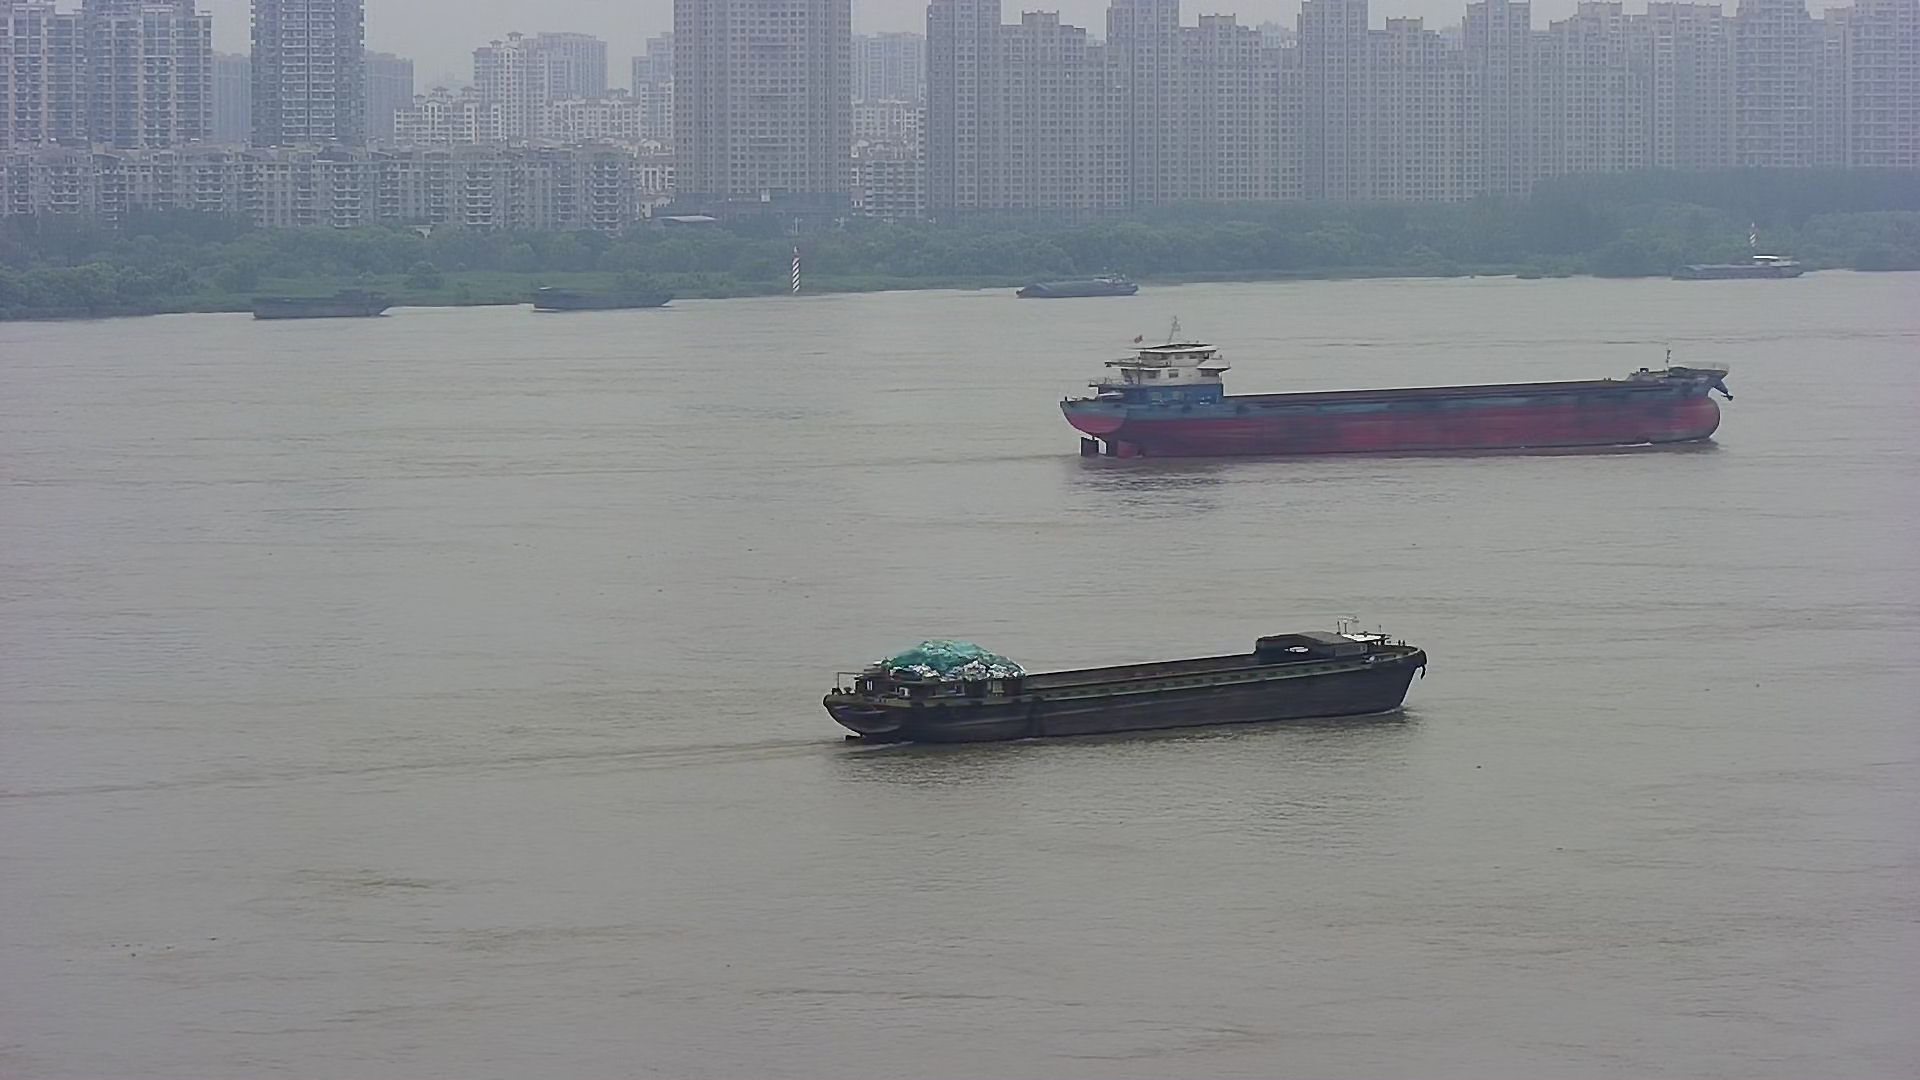boat: (533, 286, 680, 313), (255, 291, 394, 318)
mast: (790, 244, 804, 291)
ship: (1059, 342, 1735, 456), (828, 613, 1429, 740), (1673, 253, 1803, 278), (1019, 272, 1145, 295)
